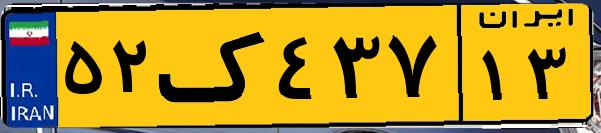1: (475, 38, 525, 113)
2: (110, 28, 158, 98)
3: (330, 28, 385, 110), (525, 38, 570, 115)
4: (270, 28, 330, 110)
5: (57, 26, 110, 100)
7: (385, 28, 445, 110)
ک: (158, 12, 270, 120)
